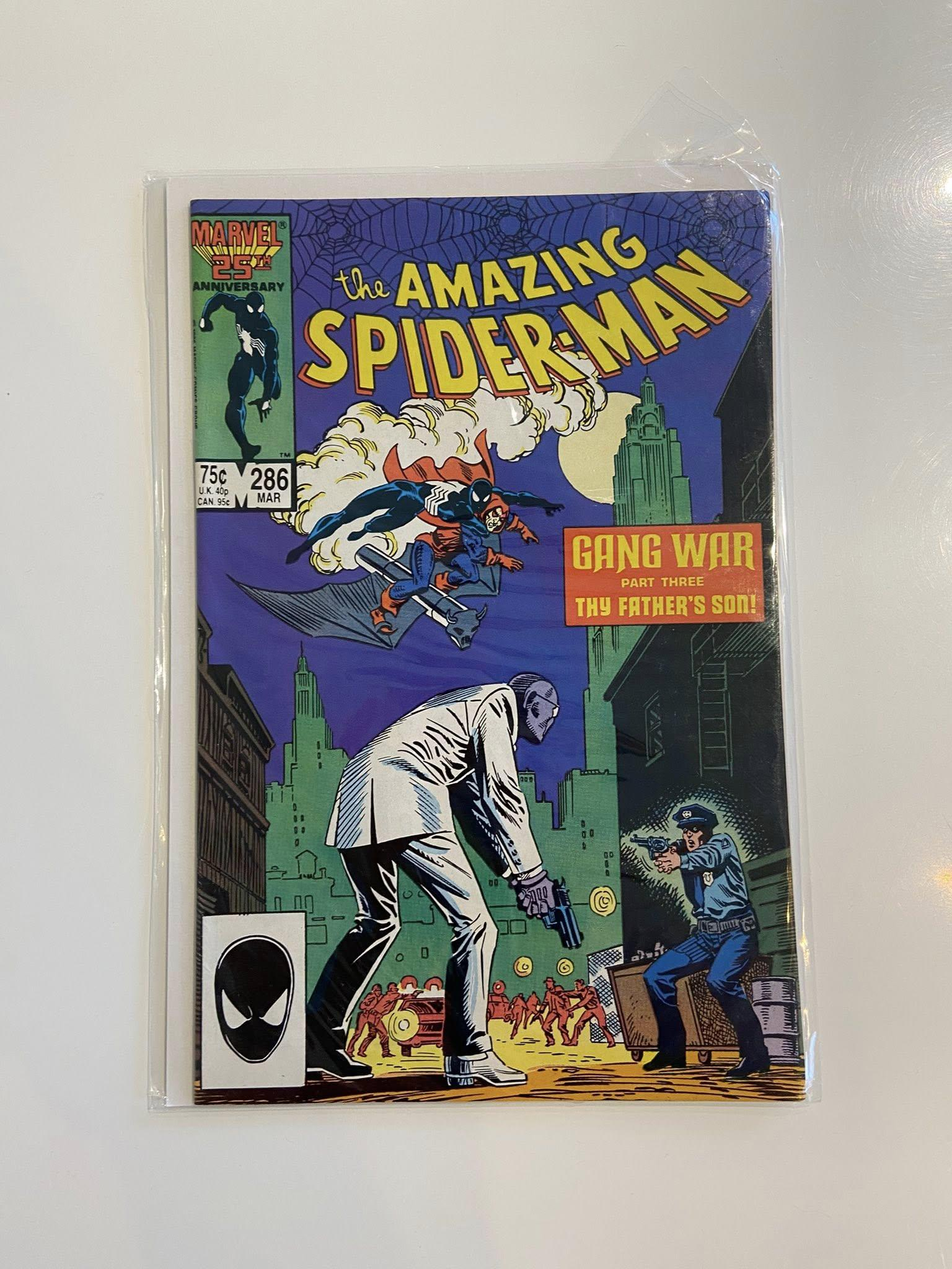comic: (187, 189, 804, 1104)
